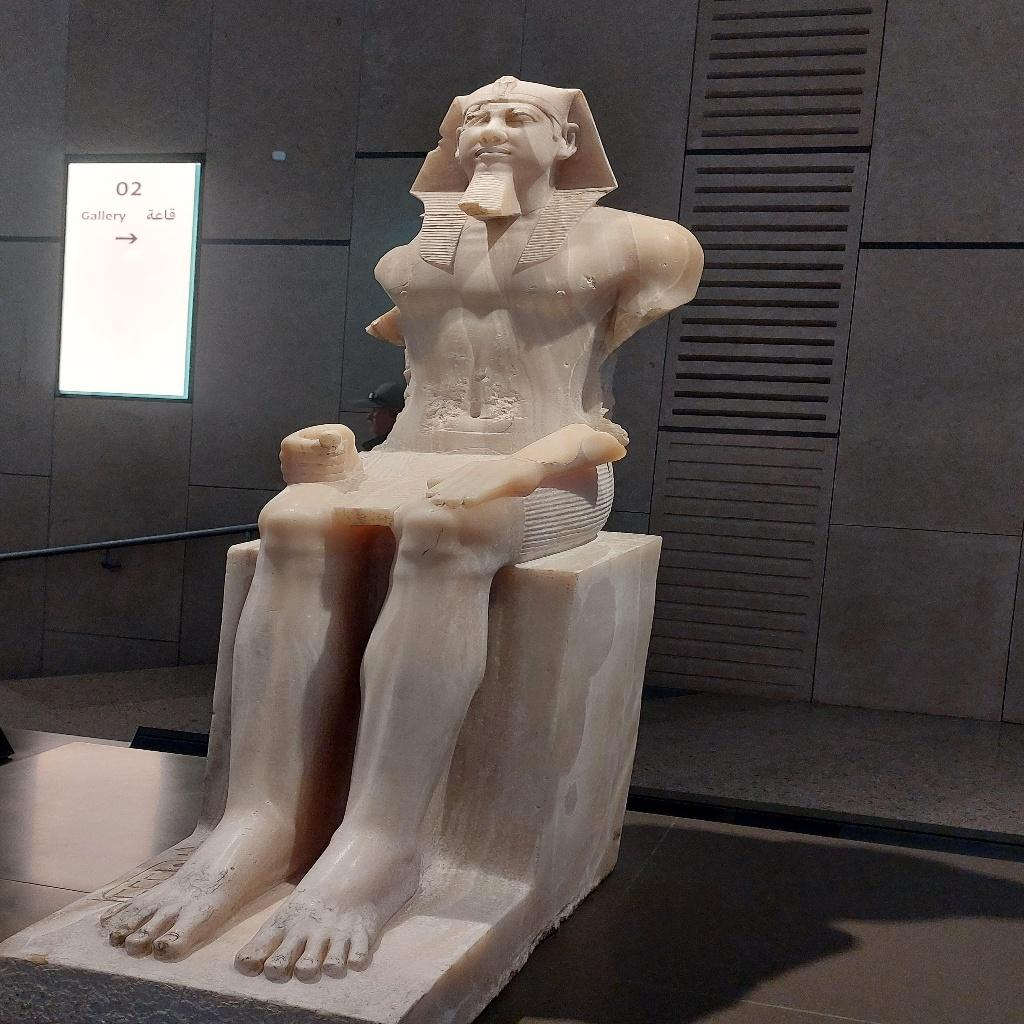Menkaure Statue: (98, 72, 707, 986)
